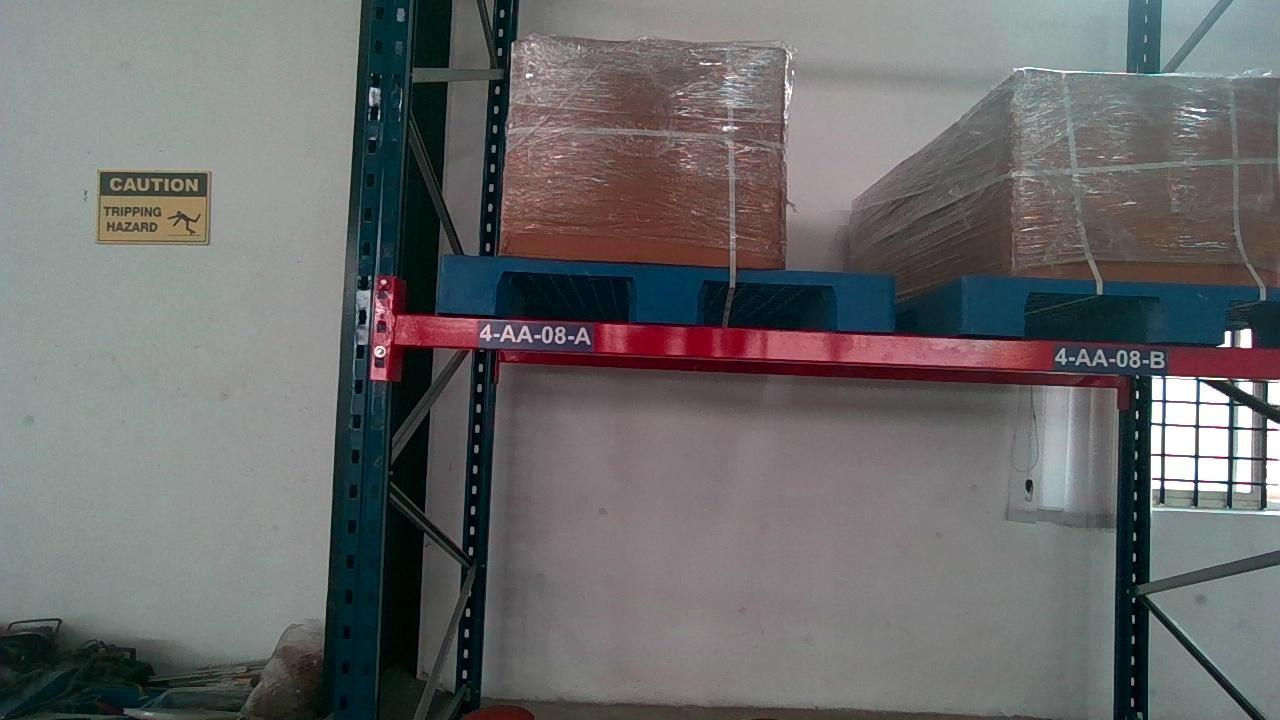h_rack: (395, 318, 1280, 373)
small_pallet: (432, 258, 895, 325), (966, 277, 1280, 339)
